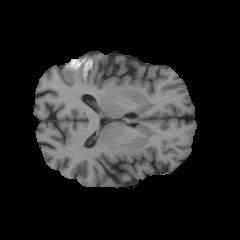glioma: (58, 54, 96, 86)
